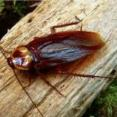cockroach: (7, 30, 105, 78)
